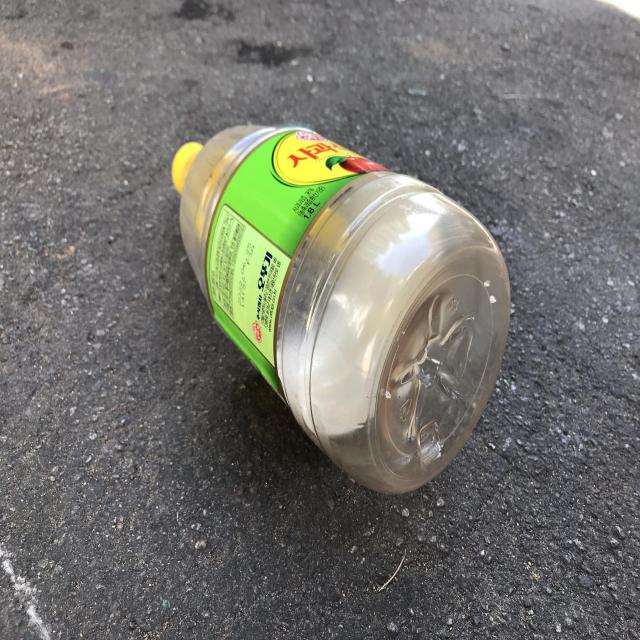plastic: (171, 125, 511, 493)
